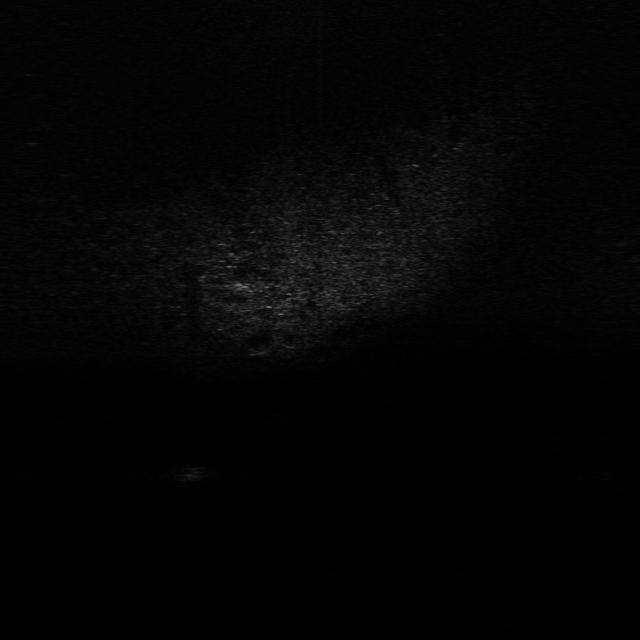cylinder: (174, 462, 204, 483)
